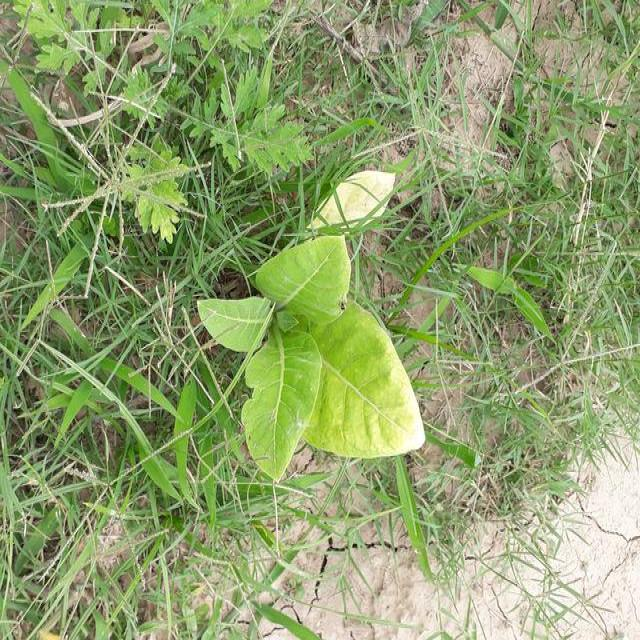crop: (199, 234, 428, 478)
